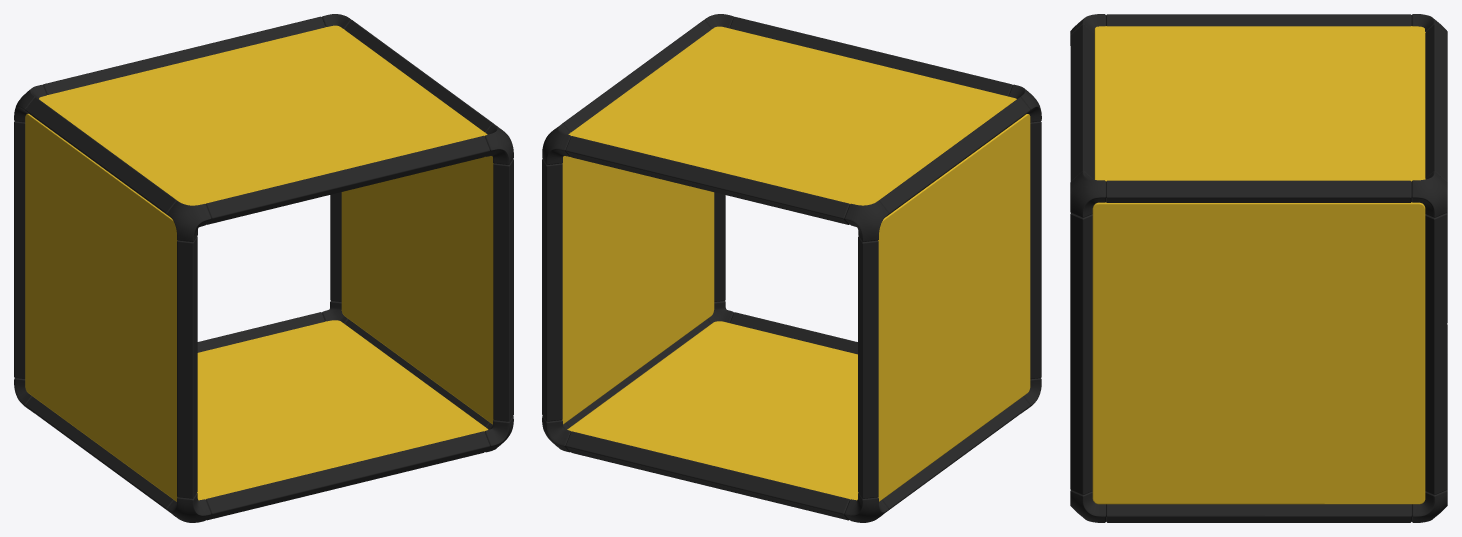
The picture shows the model from 3 angles, left to right: view 1: azimuth 30°, elevation 25°; view 2: azimuth 150°, elevation 25°; view 3: azimuth 270°, elevation 25°; orthographic projection. The views are drawn at different scales.
Parts seen in each view (by area): view 1: 374x329x329; view 2: 374x329x329; view 3: 374x329x329.
Part boxes in pixels (x1,y1,x2,y2): 374x329x329: [14, 14, 513, 522]; 374x329x329: [542, 14, 1041, 522]; 374x329x329: [1070, 14, 1447, 522].
Size of the model in its own units: 0.4517 by 0.4067 by 0.4063.
